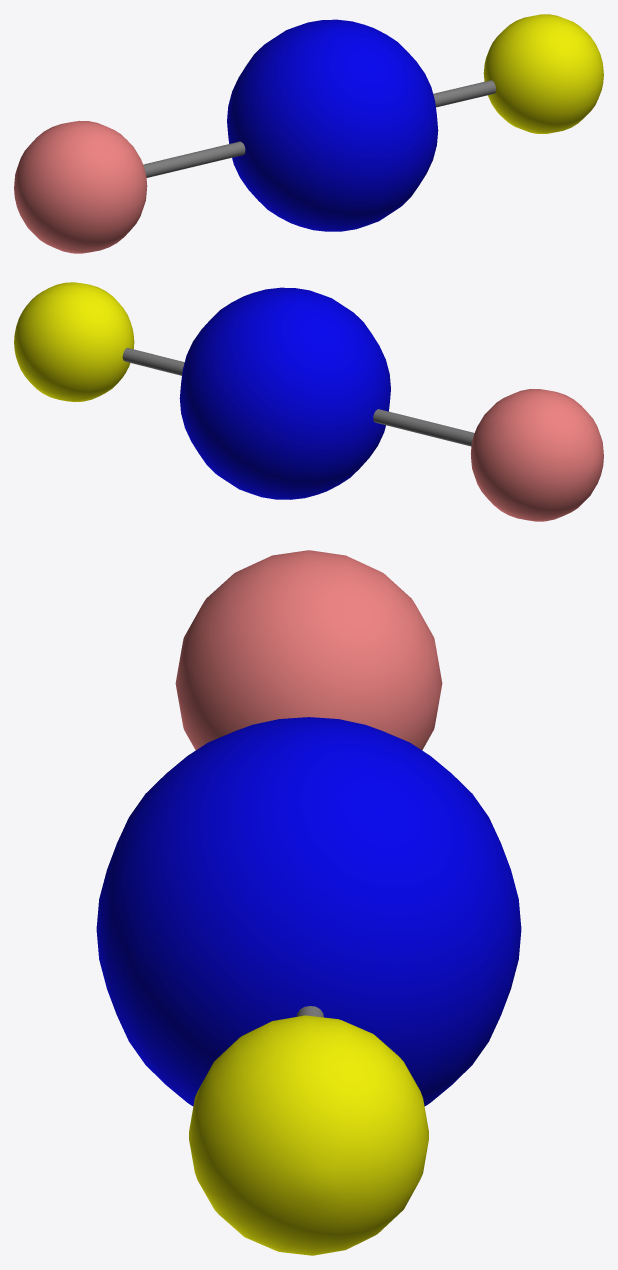
Rendered from HArF.fbx.
3 renders of one model, top to bottom at view 1: azimuth 30°, elevation 25°; view 2: azimuth 150°, elevation 25°; view 3: azimuth 270°, elevation 25°, orthographic. The views are drawn at different scales.
Visible parts, largest first — view 1: HArF; view 2: HArF; view 3: HArF.
Boxes of the visible parts, bbox=[...] form: HArF: bbox=[14, 14, 603, 253]; HArF: bbox=[14, 282, 603, 521]; HArF: bbox=[96, 550, 521, 1255].
Bounding box in the file's own units: 9.17 × 2.94 × 2.94.
